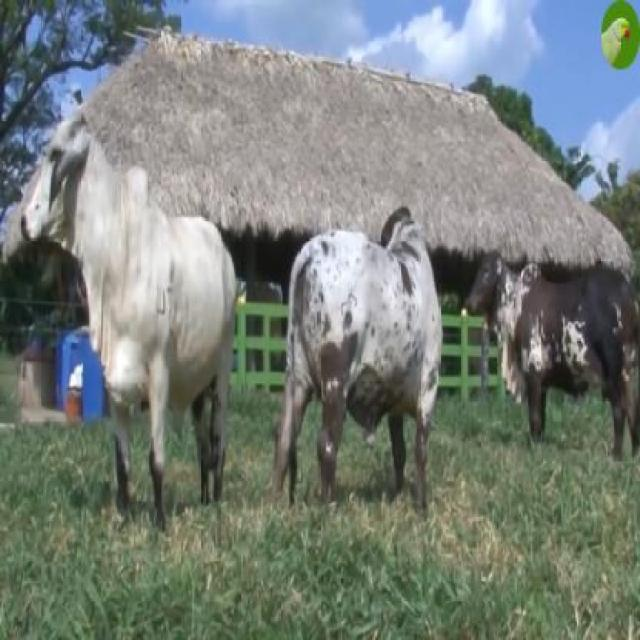Cow: (20, 109, 237, 534), (274, 205, 444, 520), (464, 252, 638, 466)
